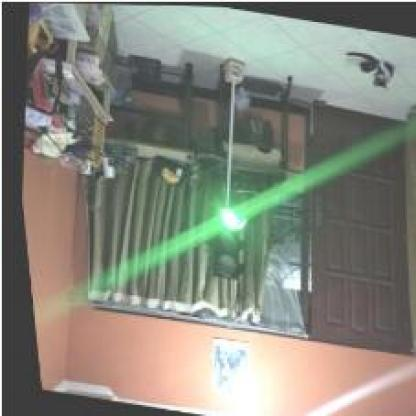green: (200, 204, 247, 280)
